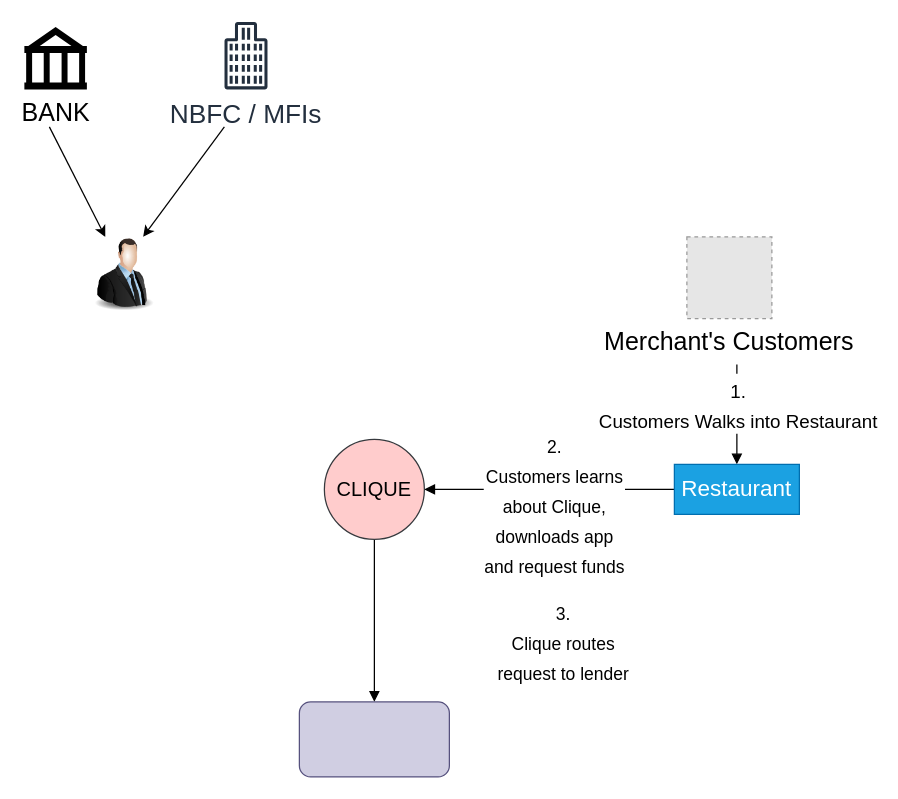
Image size: 898x799. Some labels were removed from this diagram. Grey dashed boxes stand in for pictures. Here are the shapes that lost their labels. From the top down, the centre of each, then its label:
pixel 123 273: Corporate Customer
pixel 373 739: NBFC / MFI
